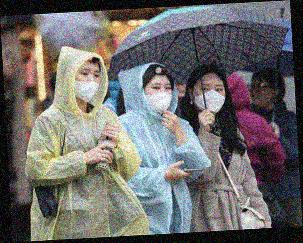with_mask: (192, 80, 227, 115), (73, 65, 103, 104), (144, 79, 175, 114)
without_mask: (247, 78, 271, 107)
